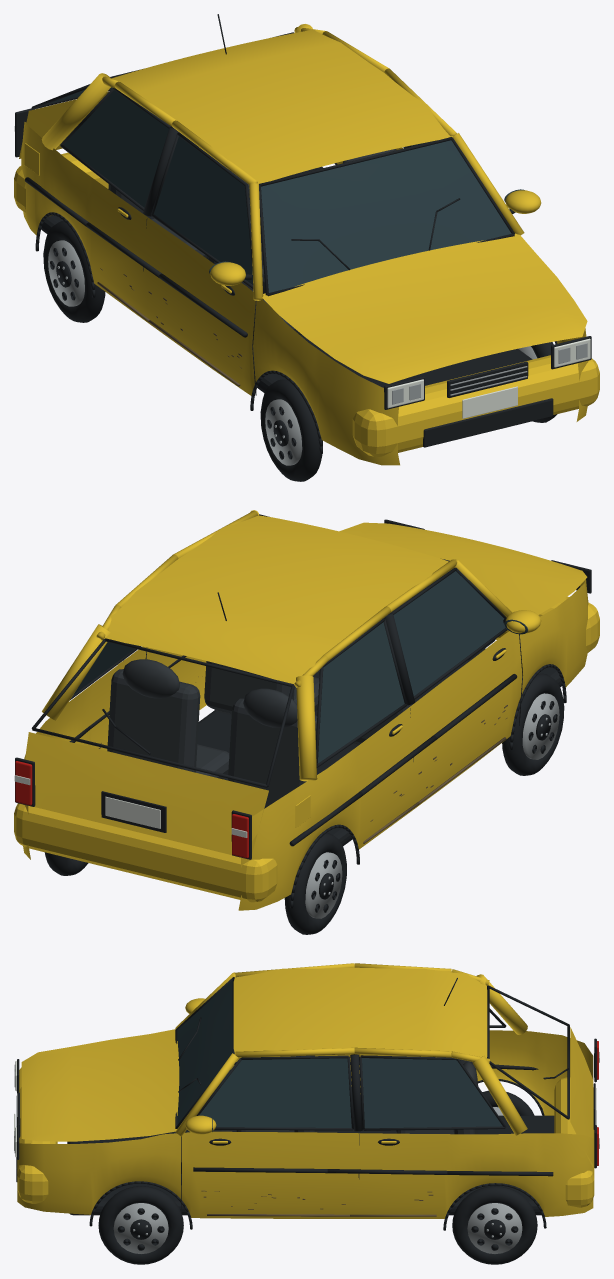
File: taxi.glb
3 renders of one model, top to bottom at view 1: azimuth 30°, elevation 25°; view 2: azimuth 150°, elevation 25°; view 3: azimuth 270°, elevation 25°, orthographic. The views are drawn at different scales.
Parts seen in each view (by area): view 1: taxi_Taxi_aged_yellow, taxi_Smoked_automotive_glass, taxi_Black_rubber_trim, taxi_front_left_wheel, taxi_rear_left_wheel, taxi_Headlight_reflector, taxi_Brushed_steel, taxi_Cabin_charcoal, taxi_Road_dust; view 2: taxi_Taxi_aged_yellow, taxi_Cabin_charcoal, taxi_Smoked_automotive_glass, taxi_Black_rubber_trim, taxi_front_left_wheel, taxi_rear_left_wheel, taxi_Headlight_reflector, taxi_Tail_light_red, taxi_Road_dust, taxi_rear_right_wheel; view 3: taxi_Taxi_aged_yellow, taxi_Smoked_automotive_glass, taxi_Black_rubber_trim, taxi_front_right_wheel, taxi_rear_right_wheel, taxi_Cabin_charcoal, taxi_Road_dust, taxi_rear_left_wheel.
Boxes of the visible parts, <box> form: taxi_Taxi_aged_yellow: <box>14,24,599,465</box>; taxi_Smoked_automotive_glass: <box>48,87,524,292</box>; taxi_Black_rubber_trim: <box>15,14,591,453</box>; taxi_front_left_wheel: <box>260,379,322,481</box>; taxi_rear_left_wheel: <box>43,220,105,322</box>; taxi_Headlight_reflector: <box>14,126,590,418</box>; taxi_Brushed_steel: <box>392,343,587,404</box>; taxi_Cabin_charcoal: <box>108,132,396,334</box>; taxi_Road_dust: <box>97,268,242,386</box>; taxi_Taxi_aged_yellow: <box>14,510,599,910</box>; taxi_Cabin_charcoal: <box>107,598,495,808</box>; taxi_Smoked_automotive_glass: <box>73,570,527,763</box>; taxi_Black_rubber_trim: <box>15,514,591,908</box>; taxi_front_left_wheel: <box>502,673,564,775</box>; taxi_rear_left_wheel: <box>284,833,346,934</box>; taxi_Headlight_reflector: <box>14,775,247,837</box>; taxi_Tail_light_red: <box>15,761,248,858</box>; taxi_Road_dust: <box>98,676,507,843</box>; taxi_rear_right_wheel: <box>44,852,88,875</box>; taxi_Taxi_aged_yellow: <box>17,963,594,1218</box>; taxi_Smoked_automotive_glass: <box>177,980,502,1131</box>; taxi_Black_rubber_trim: <box>16,977,596,1230</box>; taxi_front_right_wheel: <box>98,1186,183,1264</box>; taxi_rear_right_wheel: <box>452,1186,537,1264</box>; taxi_Cabin_charcoal: <box>185,1055,478,1134</box>; taxi_Road_dust: <box>201,1190,436,1216</box>; taxi_rear_left_wheel: <box>482,1090,534,1115</box>.
Bounding box in the file's own units: 2.05 × 1.76 × 3.93.
